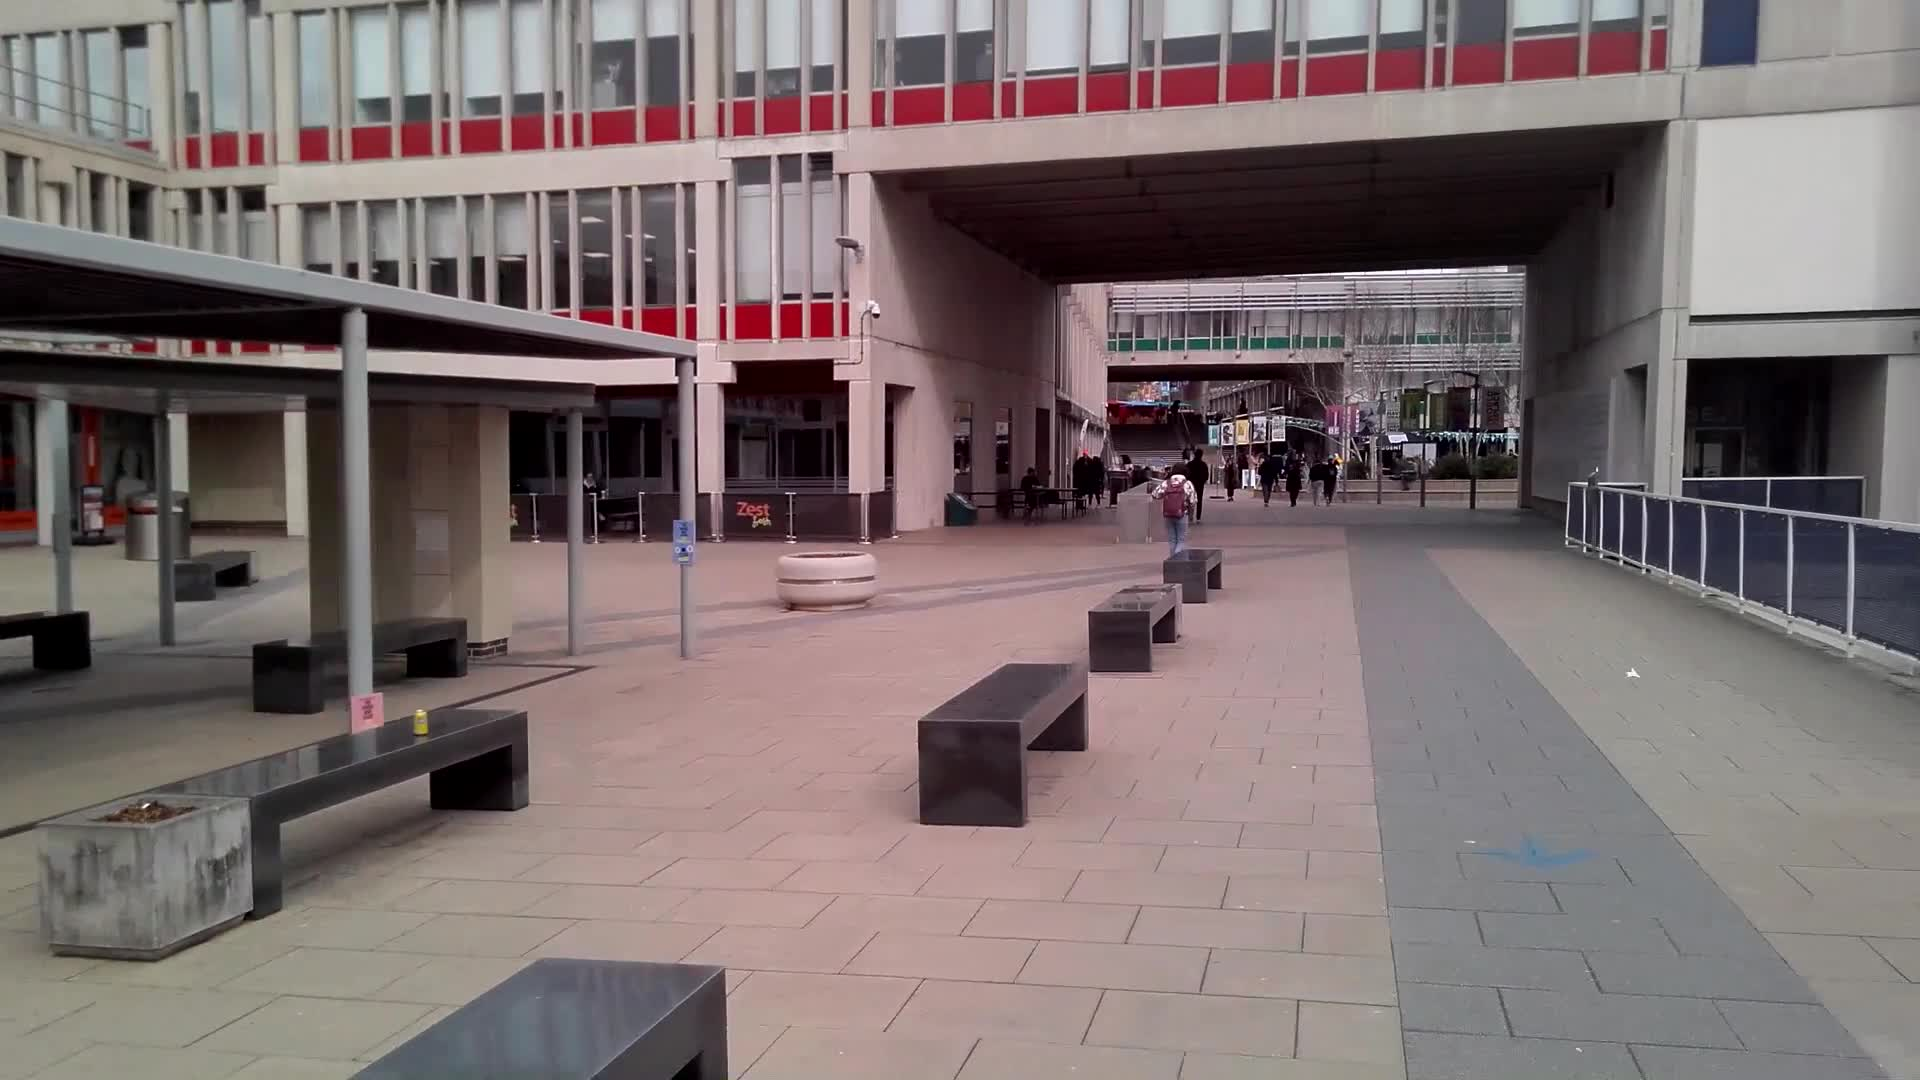Backpack: (1164, 483, 1197, 529)
Bench: (38, 702, 532, 955), (336, 955, 733, 1080), (917, 662, 1092, 830), (249, 615, 486, 703), (1089, 582, 1180, 678), (1164, 547, 1229, 601)
Person: (1156, 462, 1196, 555)
